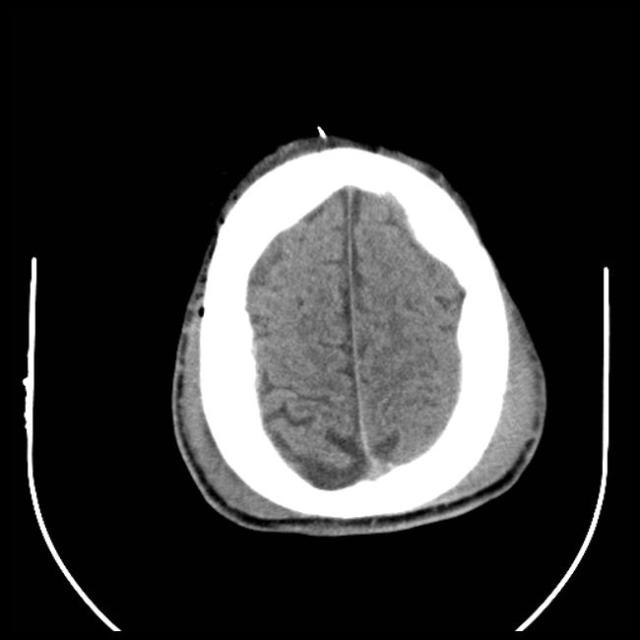lesion: (167, 125, 550, 539)
